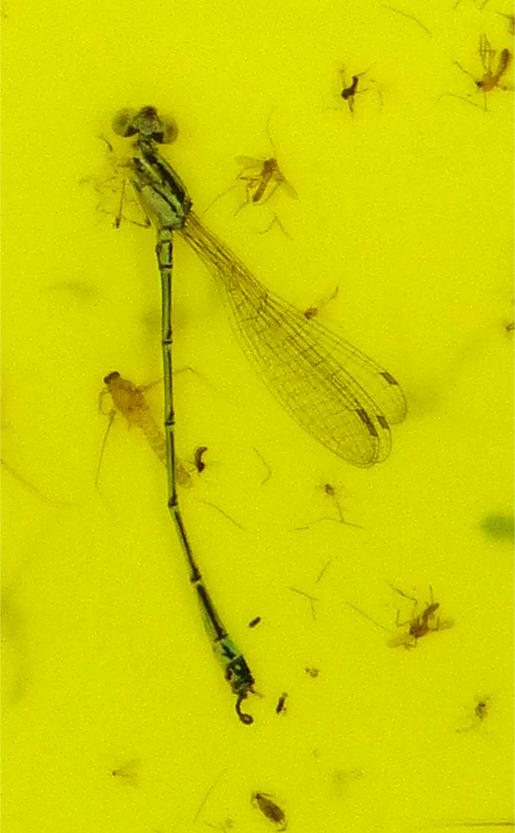Ephemeroptera: (102, 370, 194, 493)
Nematocera: (471, 45, 510, 97), (248, 155, 279, 204), (405, 600, 441, 641), (454, 697, 491, 735), (191, 444, 209, 477), (339, 74, 359, 103)
Odonata: (100, 100, 415, 733)
Trichoptera: (251, 790, 287, 824)
